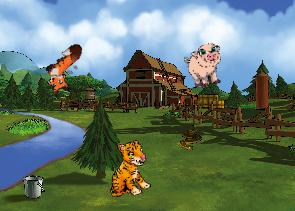fox: (35, 40, 97, 100)
pig: (182, 41, 228, 90)
tiger: (98, 138, 156, 202)
